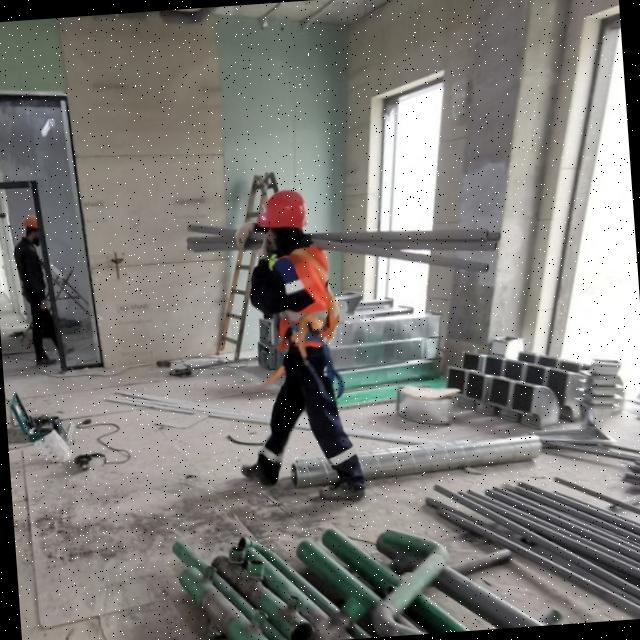Helmet: (257, 189, 311, 249), (22, 215, 48, 249)
